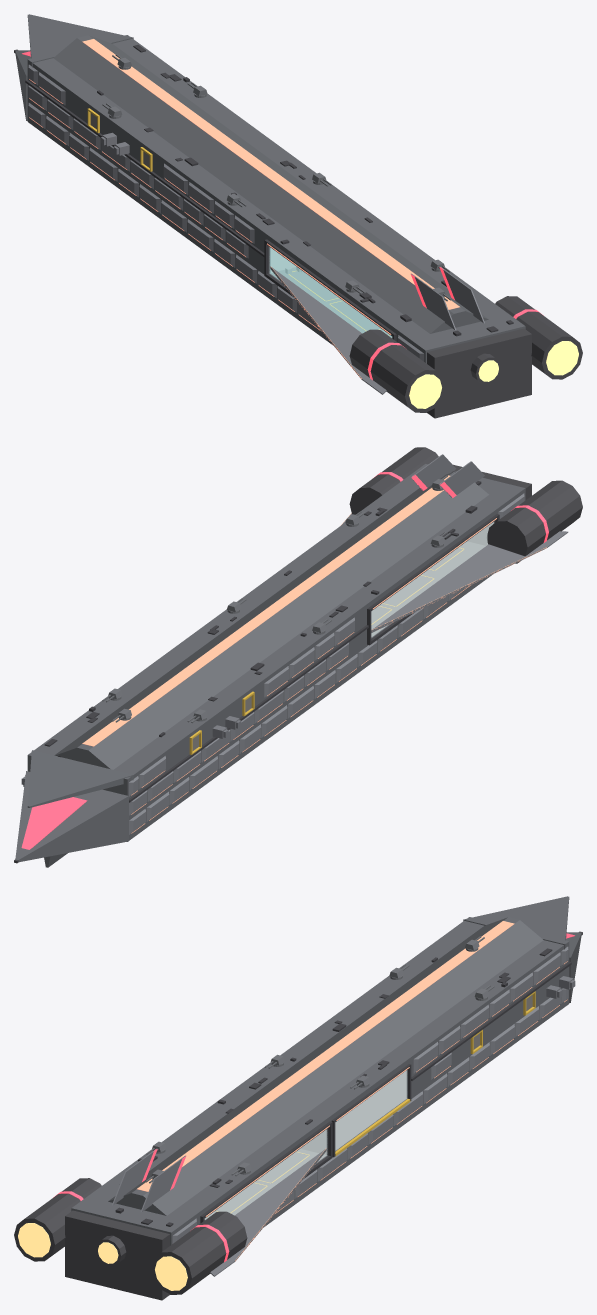
File: ship_LARGE_v3.glb
3 views of the same model, one above another, from view 1: azimuth 30°, elevation 25°; view 2: azimuth 150°, elevation 25°; view 3: azimuth 330°, elevation 25° (orthographic).
Parts seen in each view (by area): view 1: LARGE_Hull-col, LARGE_Armor, LARGE_Engines, LARGE_Lights, LARGE_EngineGlow, LARGE_Trim, LARGE_HangarShield_Port, LARGE_Decks-col, LARGE_Details, LARGE_Accent; view 2: LARGE_Hull-col, LARGE_Armor, LARGE_Engines, LARGE_Lights, LARGE_HangarShield_Port, LARGE_Trim, LARGE_Accent, LARGE_Decks-col, LARGE_Details, LARGE_Hazard; view 3: LARGE_Hull-col, LARGE_Engines, LARGE_Armor, LARGE_Lights, LARGE_Trim, LARGE_EngineGlow, LARGE_CargoBayShield, LARGE_CargoBayDoor-col, LARGE_HangarShield_Starboard, LARGE_Decks-col, LARGE_Details, LARGE_Hazard (+1 smaller).
Part boxes in pixels (x1,y1,x2,y2): LARGE_Hull-col: (15, 14, 525, 412); LARGE_Armor: (28, 64, 484, 394); LARGE_Engines: (14, 49, 582, 418); LARGE_Lights: (29, 39, 459, 378); LARGE_EngineGlow: (409, 341, 578, 408); LARGE_Trim: (25, 80, 396, 341); LARGE_HangarShield_Port: (269, 247, 392, 337); LARGE_Decks-col: (271, 267, 392, 337); LARGE_Details: (97, 44, 513, 336); LARGE_Accent: (22, 51, 543, 380); LARGE_Hull-col: (15, 464, 525, 867); LARGE_Armor: (129, 454, 568, 834); LARGE_Engines: (14, 447, 582, 863); LARGE_Lights: (82, 475, 546, 833); LARGE_HangarShield_Port: (371, 522, 493, 636); LARGE_Trim: (25, 514, 499, 802); LARGE_Accent: (21, 472, 548, 849); LARGE_Decks-col: (371, 541, 485, 635); LARGE_Details: (44, 471, 481, 757); LARGE_Hazard: (189, 547, 463, 754); LARGE_Hull-col: (71, 896, 581, 1294); LARGE_Engines: (14, 931, 582, 1300); LARGE_Armor: (112, 946, 568, 1276); LARGE_Lights: (137, 921, 567, 1261); LARGE_Trim: (200, 962, 571, 1223); LARGE_EngineGlow: (18, 1223, 187, 1290); LARGE_CargoBayShield: (335, 1070, 407, 1150); LARGE_CargoBayDoor-col: (335, 1071, 406, 1149); LARGE_HangarShield_Starboard: (204, 1129, 327, 1219); LARGE_Decks-col: (204, 1149, 325, 1219); LARGE_Details: (115, 948, 552, 1226); LARGE_Hazard: (207, 991, 535, 1217).
Bounding box in the file's own units: 40.71 × 22.95 × 182.
